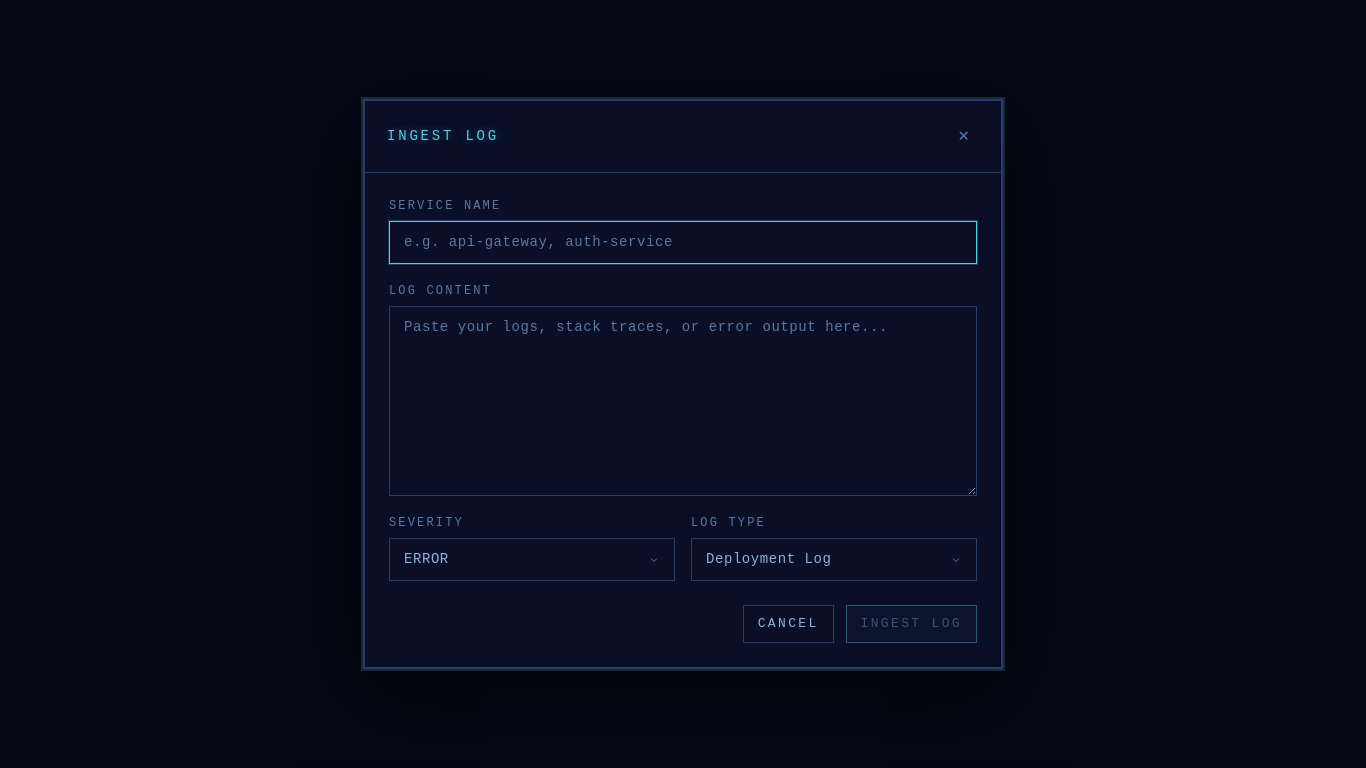
Test: IngestModal › should enable submit when required fields are filled
In the field labelled "Service Name": (683, 243) [389,221,977,264], type "api-gateway"
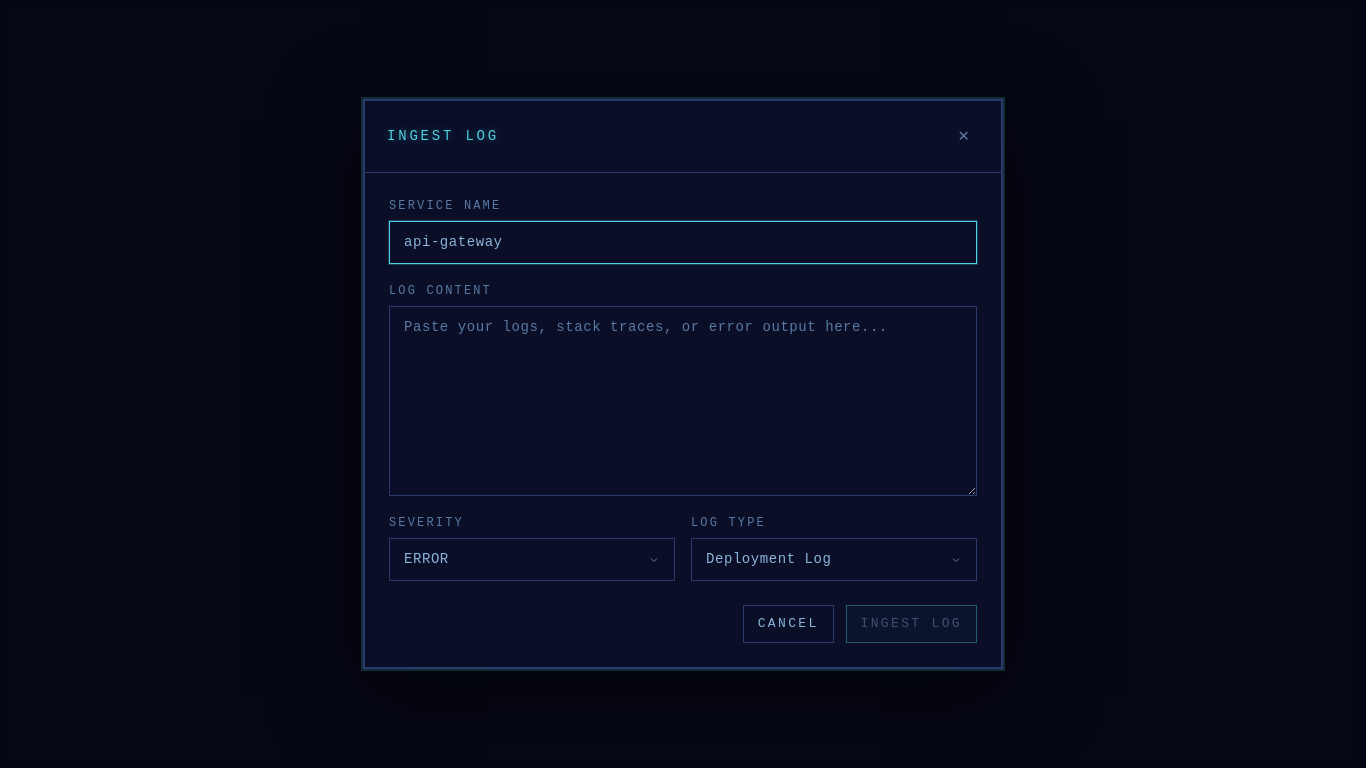
In the text box labelled "Log Content": (683, 401) [389,306,977,496], type "NullPointerException at line 42"
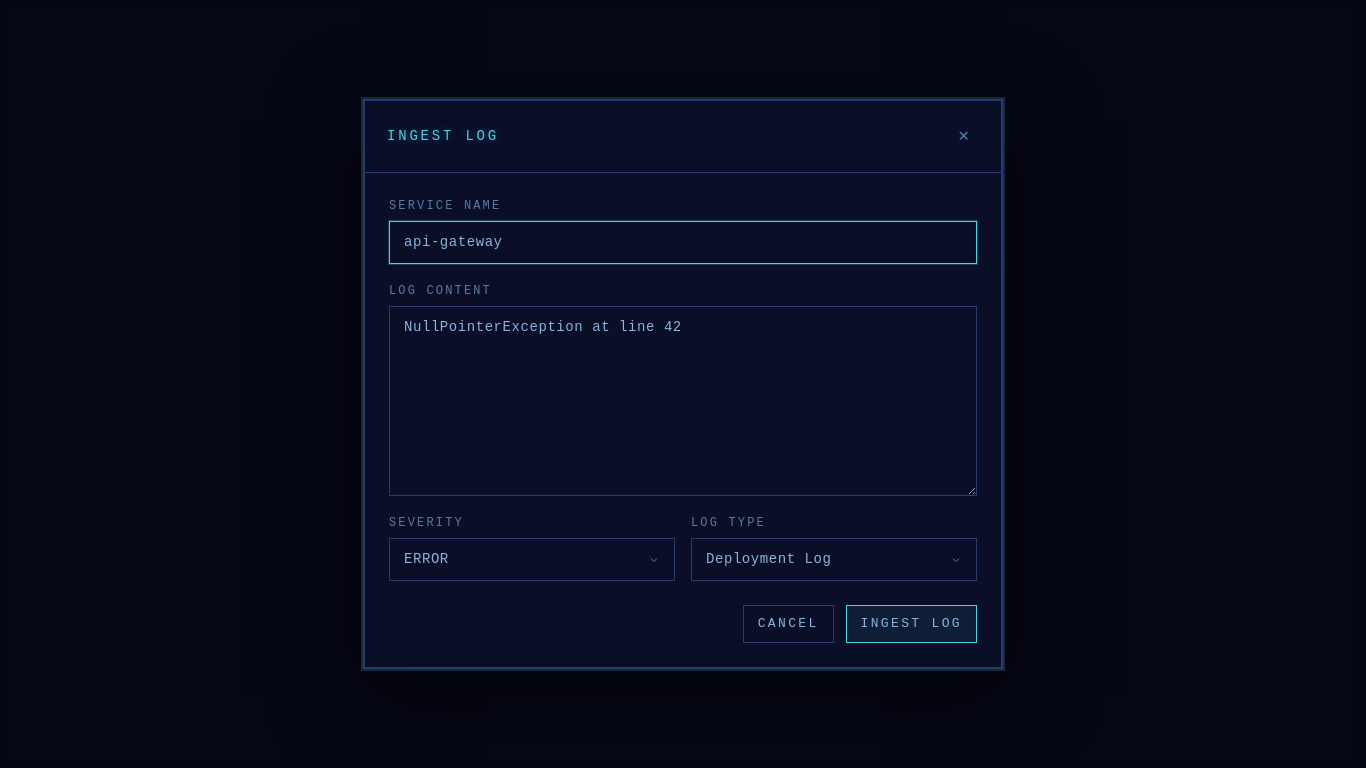
Now the button "Ingest Log" is enabled, box [846,605,977,643]
